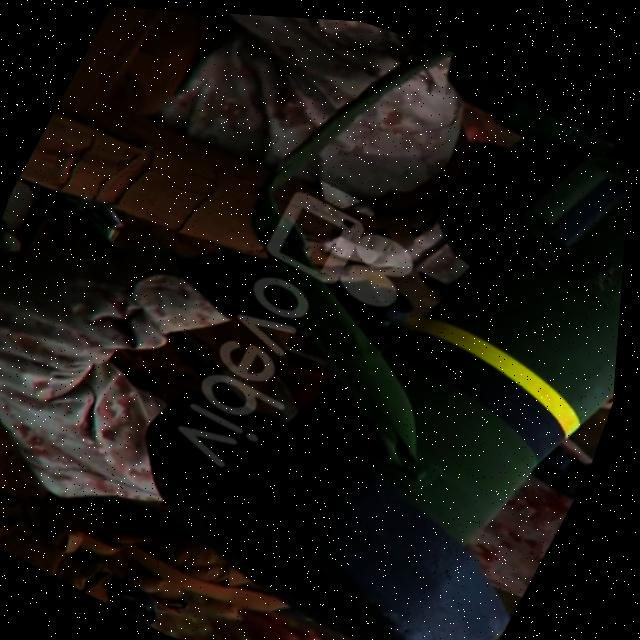rocket: (98, 6, 640, 640)
